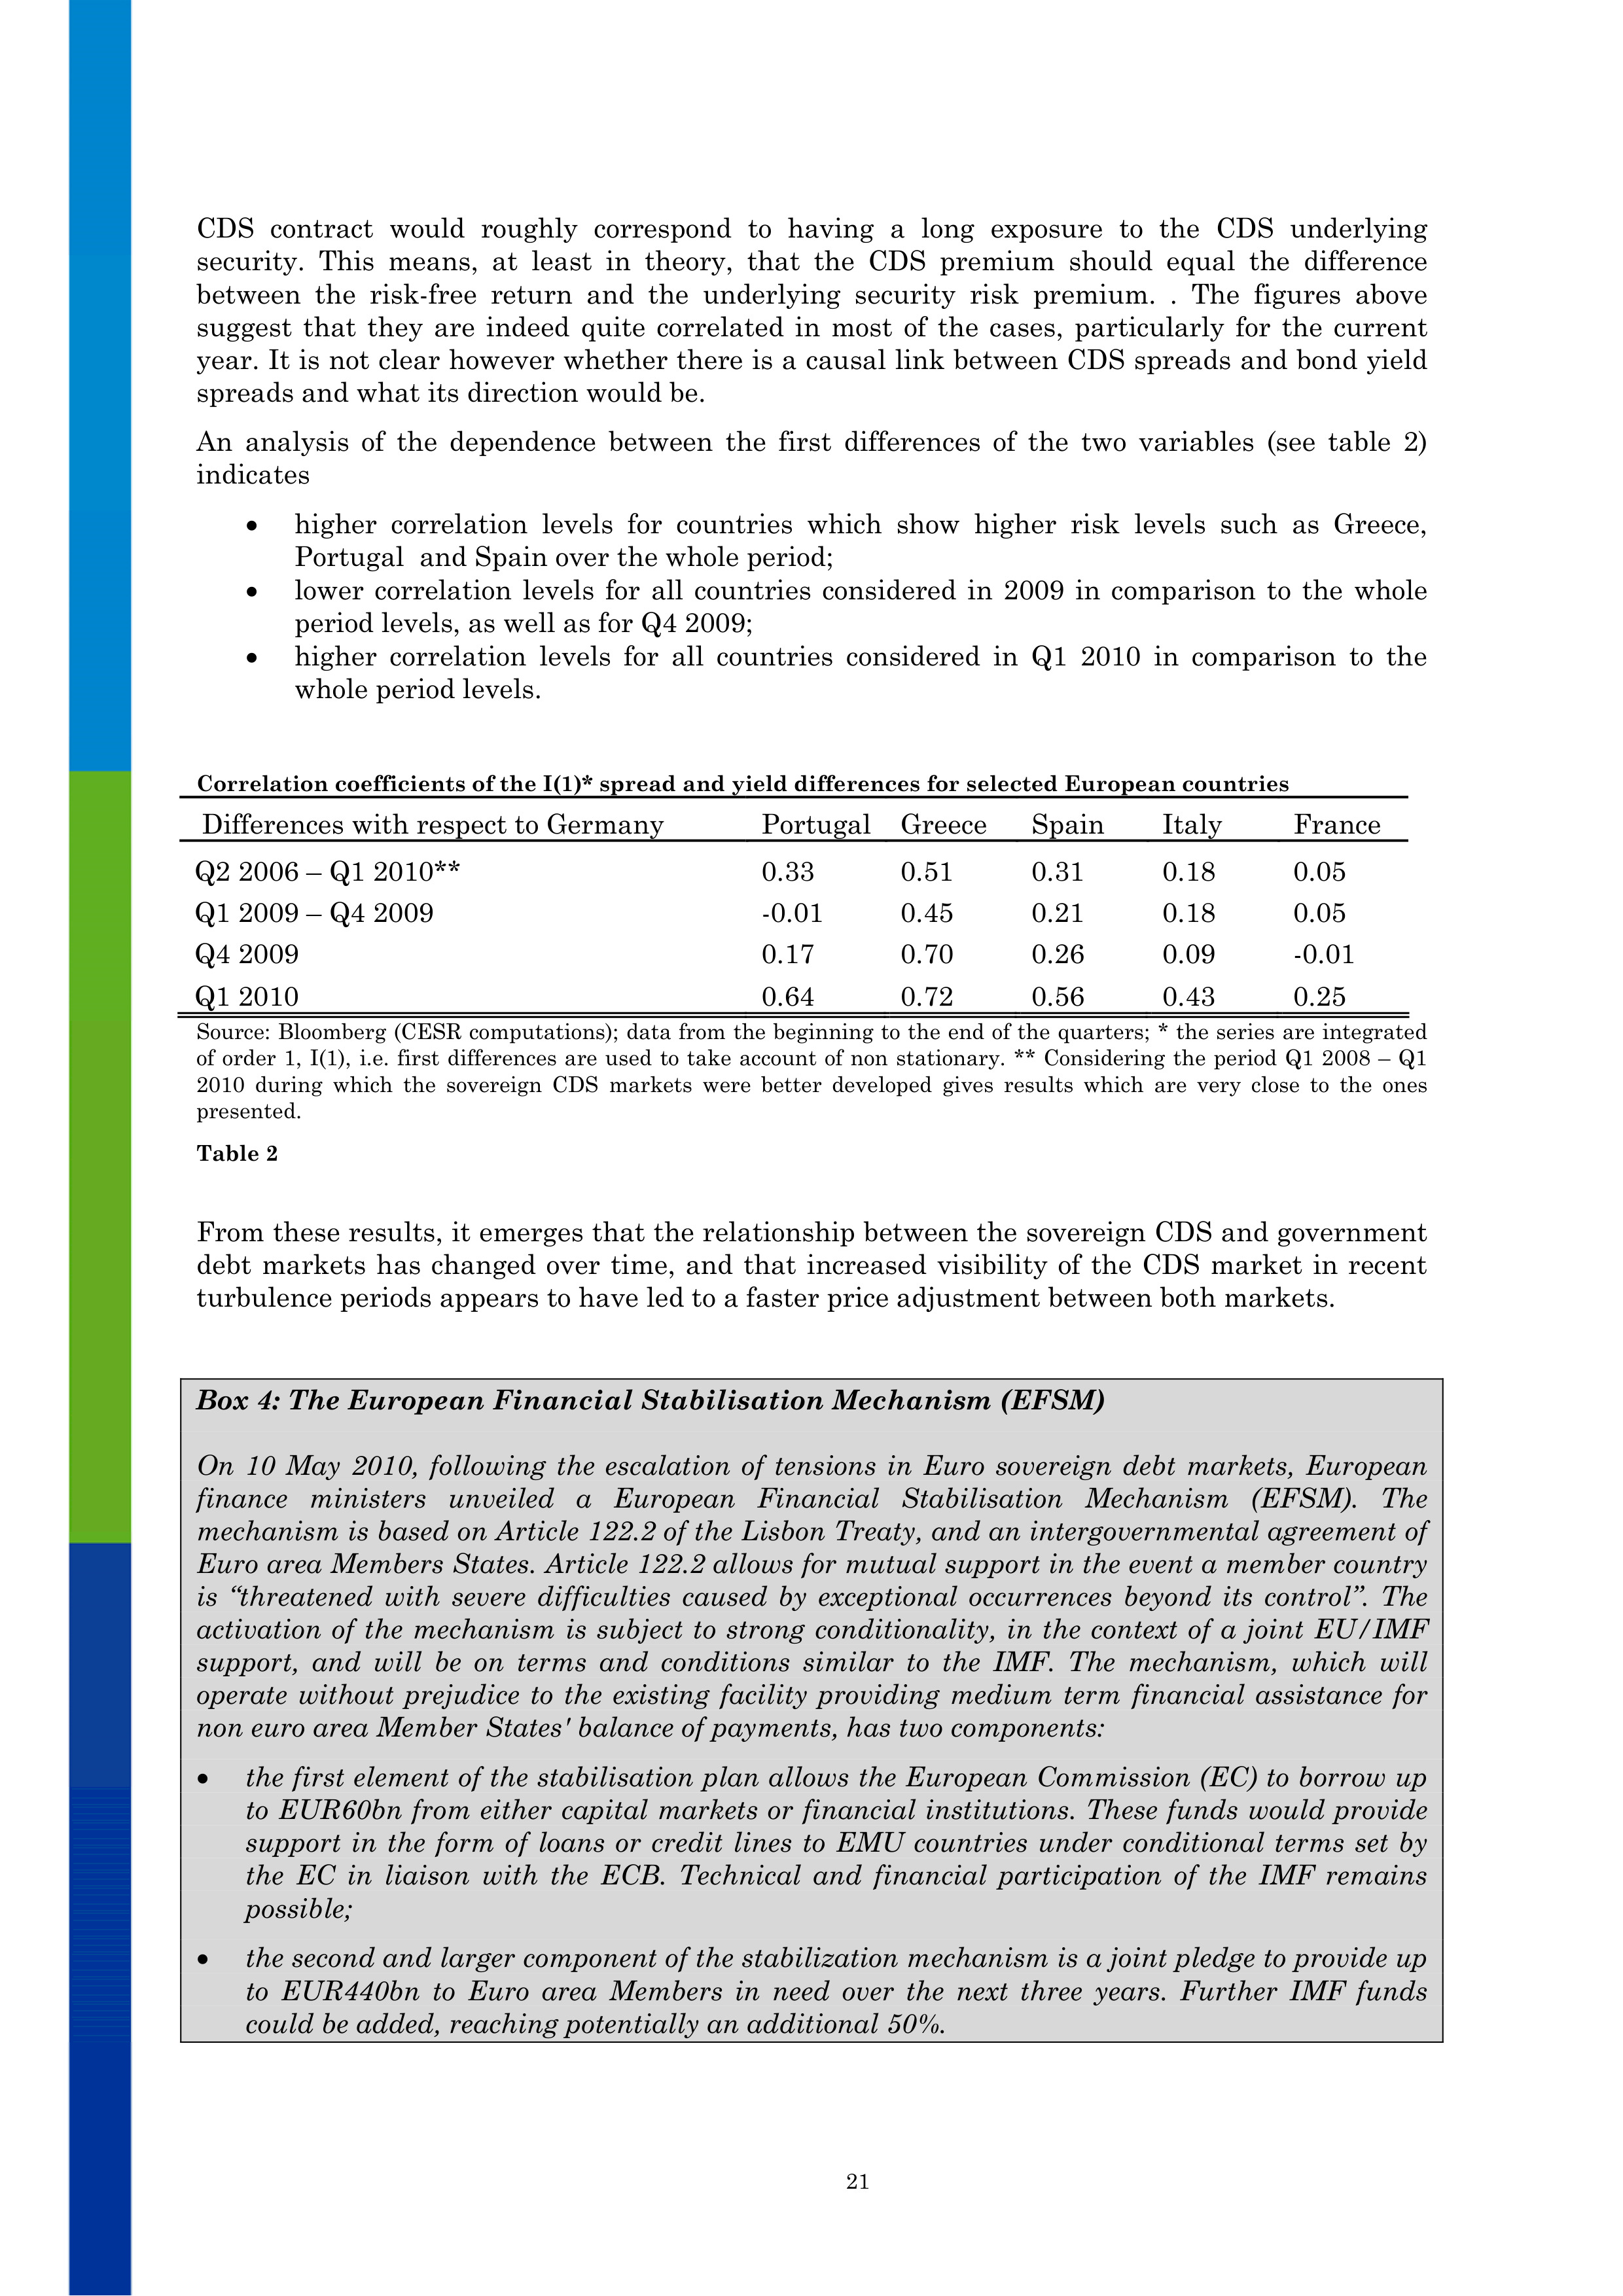table: (193, 806, 1382, 1011)
